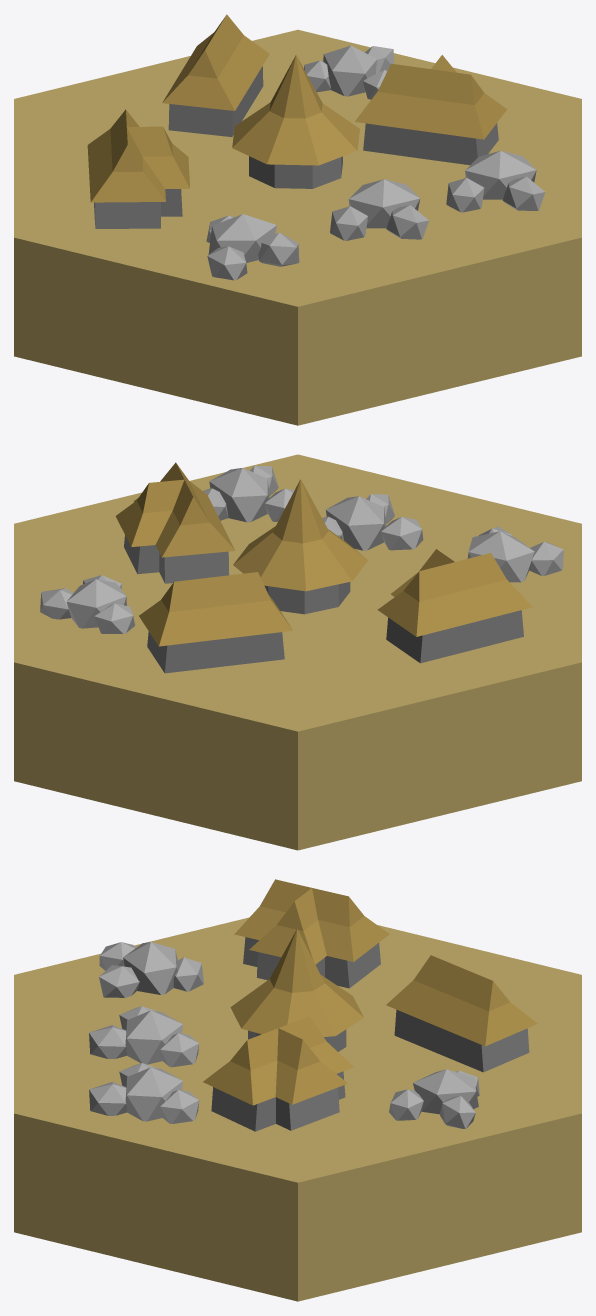
The model's file is Casas_Rocoso_9.fbx.
3 renders of one model, top to bottom at view 1: azimuth 30°, elevation 25°; view 2: azimuth 150°, elevation 25°; view 3: azimuth 270°, elevation 25°, orthographic.
Parts seen in each view (by area): view 1: Casas_Rocoso_9; view 2: Casas_Rocoso_9; view 3: Casas_Rocoso_9.
Boxes of the visible parts, left/top/right/bottom form: Casas_Rocoso_9: left=14, top=14, right=581, bottom=425; Casas_Rocoso_9: left=14, top=454, right=581, bottom=850; Casas_Rocoso_9: left=14, top=879, right=581, bottom=1301.
Bounding box in the file's own units: 200 × 78.5 × 173.
